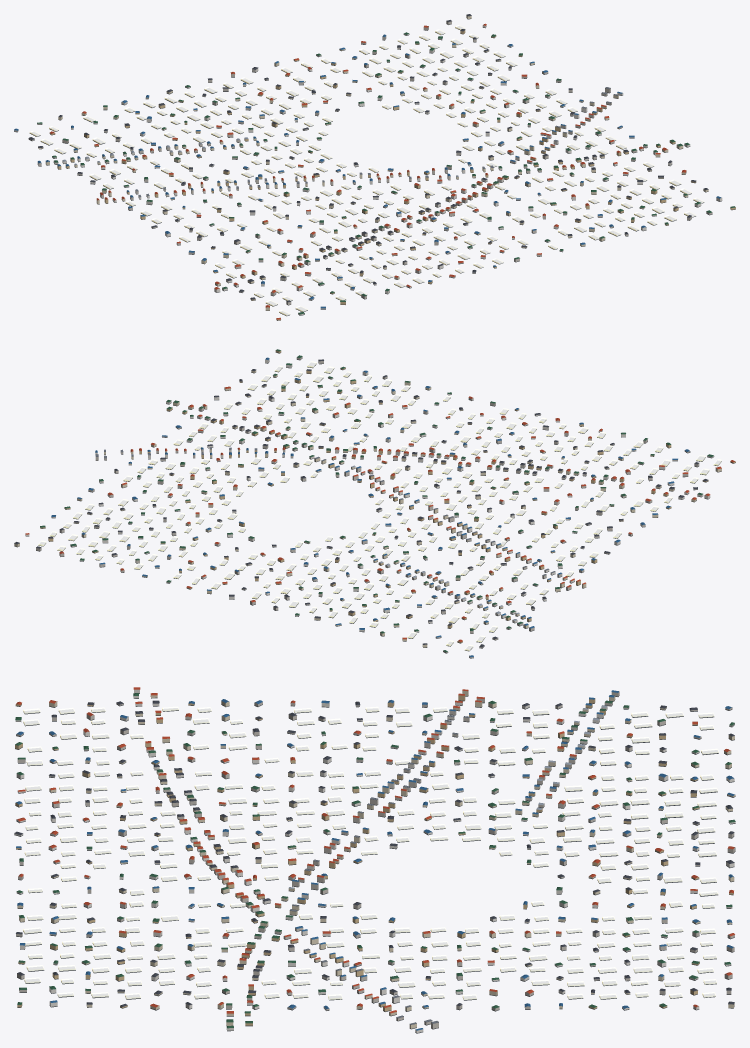
The model's file is buildings_T_W05_N00.glb.
The picture shows the model from 3 angles, top to bottom: view 1: azimuth 30°, elevation 25°; view 2: azimuth 150°, elevation 25°; view 3: azimuth 270°, elevation 25°; orthographic projection. The views are drawn at different scales.
Visible parts, largest first — view 1: T_W05_N00_roofs_agri_greenhouse_arch, T_W05_N00_slope_seating_foundations, T_W05_N00_walls_wall_pastel_sand_gray, T_W05_N00_walls_wall_dalat_cream_stucco, T_W05_N00_walls_wall_french_ochre_villa, T_W05_N00_walls_wall_modern_warm_white, T_W05_N00_roofs_roof_terracotta_gable, T_W05_N00_roofs_roof_slate_French_villa_hip, T_W05_N00_roofs_roof_pine_green_hip, T_W05_N00_roofs_roof_highland_blue_gable; view 2: T_W05_N00_roofs_agri_greenhouse_arch, T_W05_N00_slope_seating_foundations, T_W05_N00_walls_wall_pastel_sand_gray, T_W05_N00_walls_wall_dalat_cream_stucco, T_W05_N00_walls_wall_french_ochre_villa, T_W05_N00_walls_wall_modern_warm_white, T_W05_N00_roofs_roof_terracotta_gable, T_W05_N00_roofs_roof_slate_French_villa_hip, T_W05_N00_roofs_roof_pine_green_hip, T_W05_N00_roofs_roof_highland_blue_gable; view 3: T_W05_N00_roofs_agri_greenhouse_arch, T_W05_N00_slope_seating_foundations, T_W05_N00_walls_wall_pastel_sand_gray, T_W05_N00_walls_wall_dalat_cream_stucco, T_W05_N00_walls_wall_french_ochre_villa, T_W05_N00_walls_wall_modern_warm_white, T_W05_N00_roofs_roof_terracotta_gable, T_W05_N00_roofs_roof_slate_French_villa_hip, T_W05_N00_roofs_roof_pine_green_hip, T_W05_N00_roofs_roof_highland_blue_gable.
Part boxes in pixels (x1,y1,x2,y2): T_W05_N00_roofs_agri_greenhouse_arch: (29,25,704,315); T_W05_N00_slope_seating_foundations: (14,18,735,320); T_W05_N00_walls_wall_pastel_sand_gray: (14,21,712,308); T_W05_N00_walls_wall_dalat_cream_stucco: (38,15,708,310); T_W05_N00_walls_wall_french_ochre_villa: (49,30,735,320); T_W05_N00_walls_wall_modern_warm_white: (62,25,722,315); T_W05_N00_roofs_roof_terracotta_gable: (50,23,686,319); T_W05_N00_roofs_roof_slate_French_villa_hip: (28,14,708,302); T_W05_N00_roofs_roof_pine_green_hip: (37,32,735,314); T_W05_N00_roofs_roof_highland_blue_gable: (14,34,721,308); T_W05_N00_roofs_agri_greenhouse_arch: (38,361,721,650); T_W05_N00_slope_seating_foundations: (14,352,735,658); T_W05_N00_walls_wall_pastel_sand_gray: (36,356,699,658); T_W05_N00_walls_wall_dalat_cream_stucco: (14,370,721,647); T_W05_N00_walls_wall_french_ochre_villa: (40,350,735,642); T_W05_N00_walls_wall_modern_warm_white: (25,359,714,632); T_W05_N00_roofs_roof_terracotta_gable: (25,386,735,641); T_W05_N00_roofs_roof_slate_French_villa_hip: (14,359,708,647); T_W05_N00_roofs_roof_pine_green_hip: (40,349,713,652); T_W05_N00_roofs_roof_highland_blue_gable: (51,357,689,657); T_W05_N00_roofs_agri_greenhouse_arch: (23,706,718,999); T_W05_N00_slope_seating_foundations: (14,693,735,1033); T_W05_N00_walls_wall_pastel_sand_gray: (16,691,735,1028); T_W05_N00_walls_wall_dalat_cream_stucco: (17,690,735,1028); T_W05_N00_walls_wall_french_ochre_villa: (15,694,733,1025); T_W05_N00_walls_wall_modern_warm_white: (14,689,735,1032); T_W05_N00_roofs_roof_terracotta_gable: (16,687,734,1013); T_W05_N00_roofs_roof_slate_French_villa_hip: (14,700,734,1006); T_W05_N00_roofs_roof_pine_green_hip: (15,693,735,1028); T_W05_N00_roofs_roof_highland_blue_gable: (15,690,734,1030).
Size of the model in its own units: 1947 by 31.21 by 1755.
